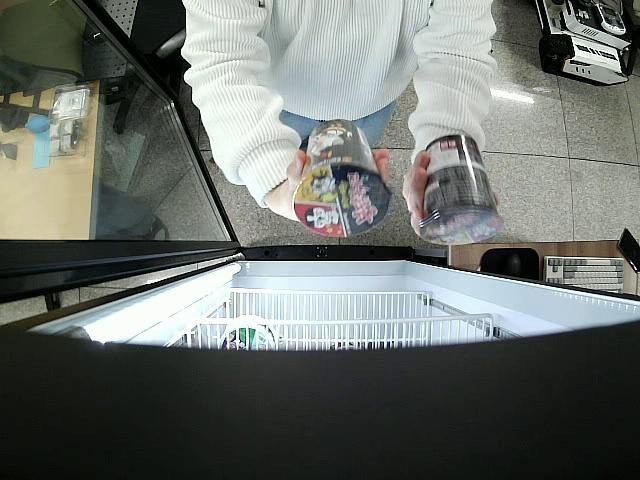08_buldak_S: (293, 117, 392, 238), (424, 134, 504, 247)
